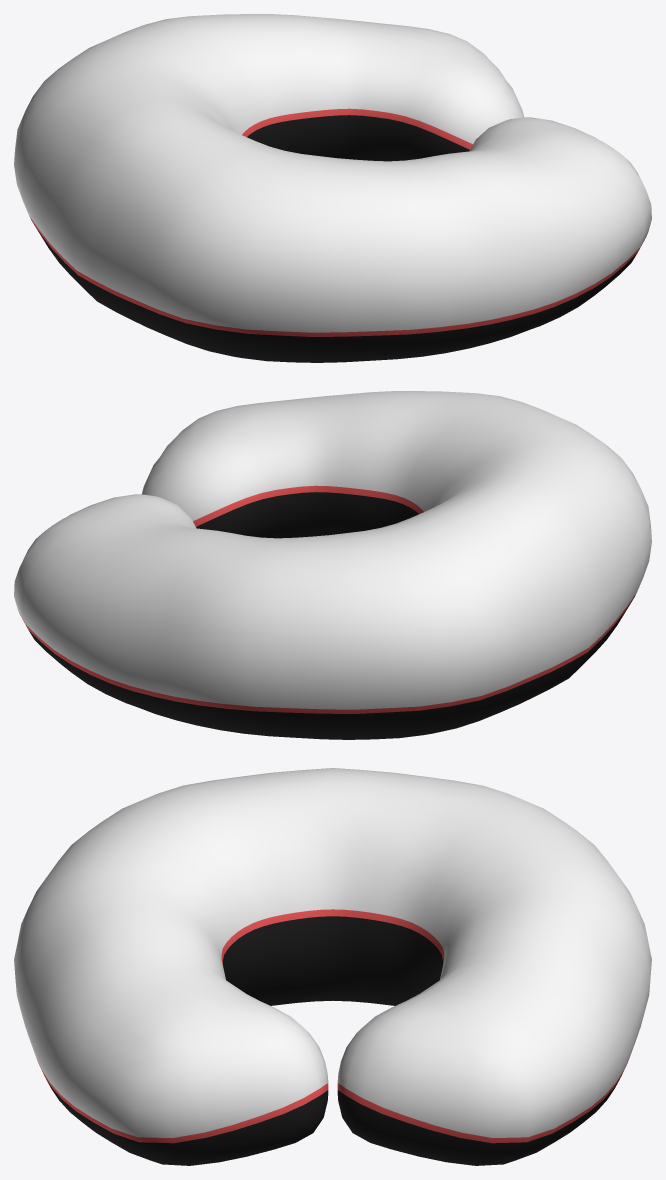
Rendered from SM_Pillow.fbx.
3 views of the same model, one above another, from view 1: azimuth 30°, elevation 25°; view 2: azimuth 150°, elevation 25°; view 3: azimuth 270°, elevation 25° (orthographic). The views are drawn at different scales.
Visible parts, largest first — view 1: SM_Pillow; view 2: SM_Pillow; view 3: SM_Pillow.
Boxes of the visible parts, bbox=[...] form: SM_Pillow: bbox=[14, 14, 651, 362]; SM_Pillow: bbox=[14, 391, 651, 739]; SM_Pillow: bbox=[14, 768, 651, 1165].
Bounding box in the file's own units: 41.37 × 15.92 × 43.73.
